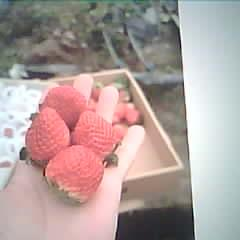straw-ripe: (45, 147, 105, 204), (27, 109, 71, 164), (74, 112, 118, 159)
